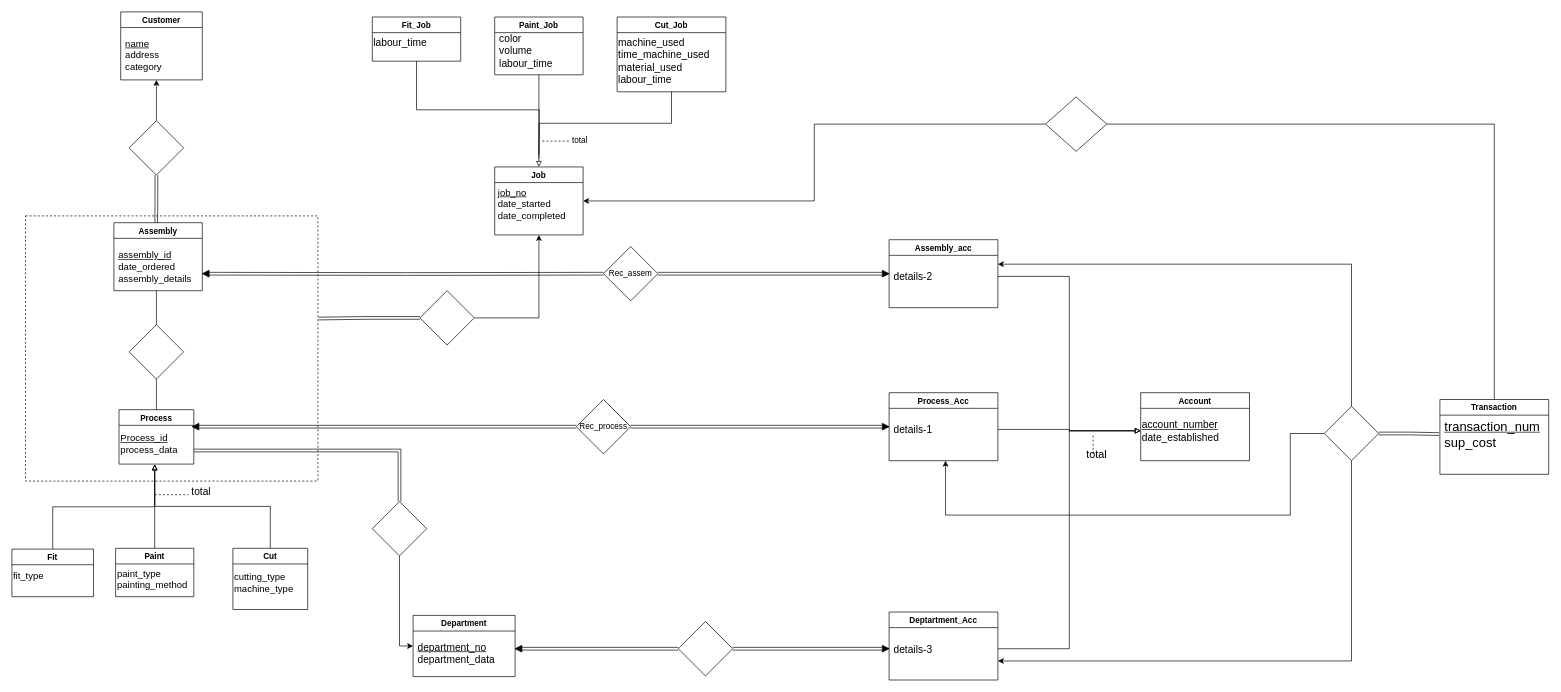
This 1561x692 diagram has some shape labels left out. The shapes that lost their labels are listed below. From the top down, each one's centre as x and y in pixels, then its label:
At (1076,123): "Records".
At (156,147): "orders".
At (446,317): "assigned".
At (156,351): "Manufacture".
At (1351,433): "Updates".
At (399,528): "supervise".
At (705,648): "Rec_dept".
